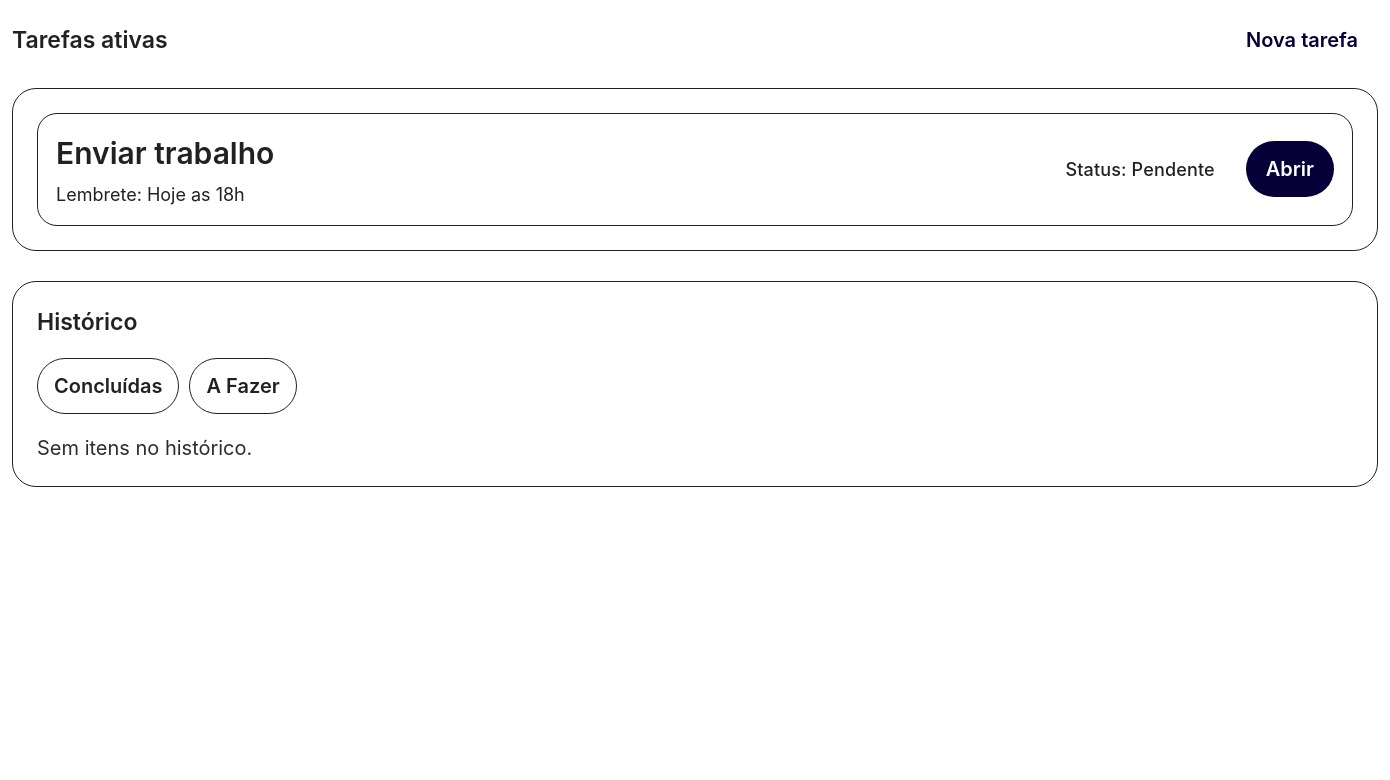
Test: ActivityOrganizer › shows active activities with reminder, status, and accessible primary action
Expected: the heading "Enviar trabalho" is shown, [56,132,274,174]
Expected: the text "Lembrete: Hoje as 18h" is shown, [56,182,274,207]
What coordinates should you click on to do the following:
click the button with aria-label "Abrir atividade Enviar trabalho"
I would click on:
 (1290, 169)
Its box is [1246,141,1334,197].
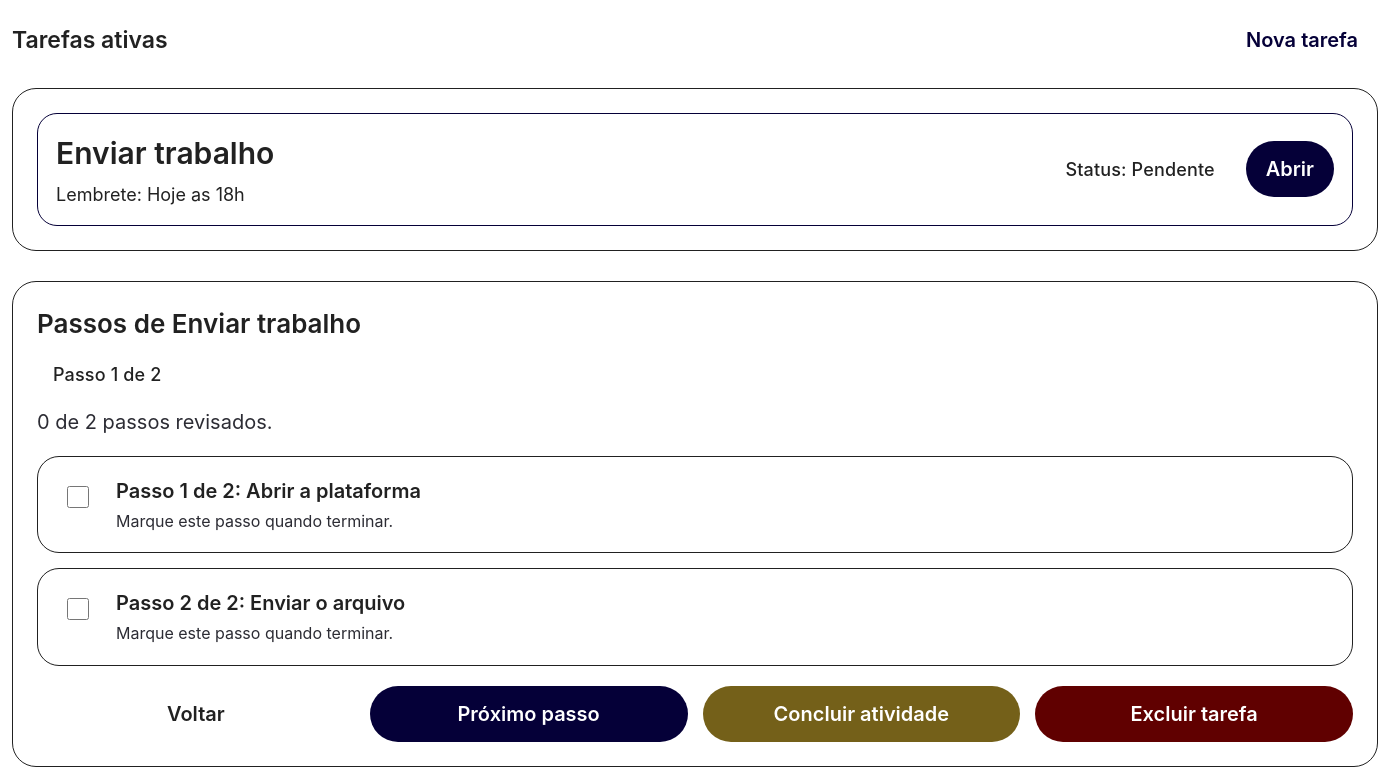
Now the heading "Passos de Enviar trabalho" is shown, box [37,306,361,342]
